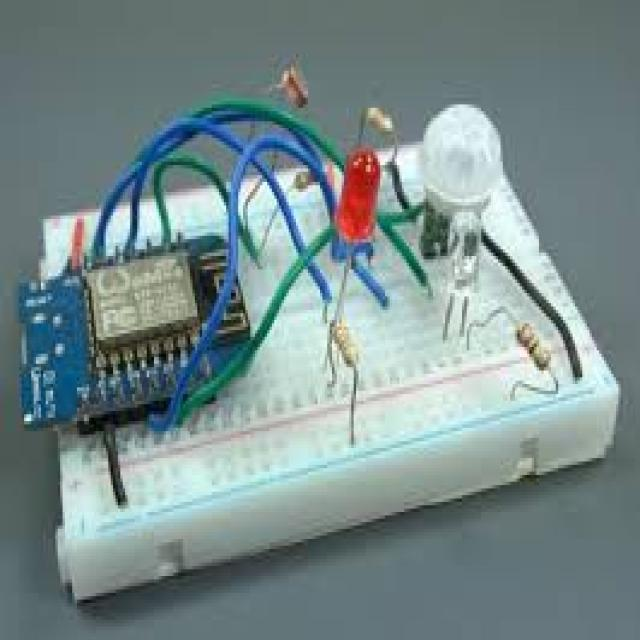capacitor: (516, 314, 552, 372), (330, 314, 360, 369), (364, 102, 397, 137)
